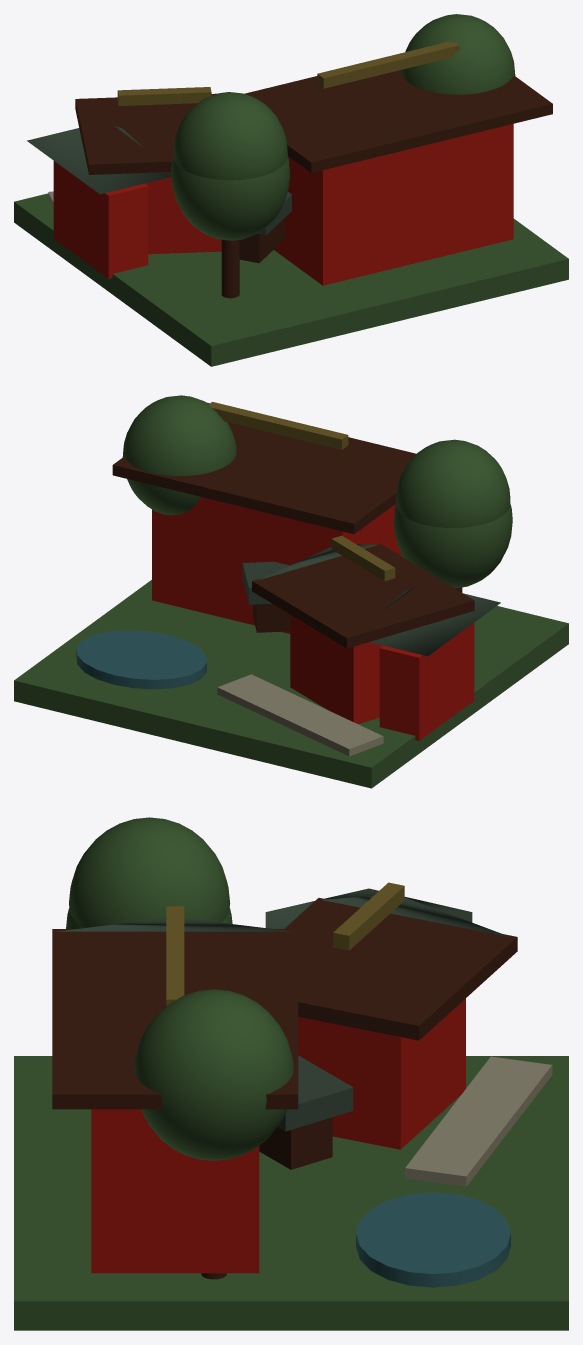
File: YonganPalace.fbx
The picture shows the model from 3 angles, top to bottom: view 1: azimuth 30°, elevation 25°; view 2: azimuth 150°, elevation 25°; view 3: azimuth 270°, elevation 25°; orthographic projection. The views are drawn at different scales.
Parts seen in each view (by area): view 1: garden_ground, main_hall_body, main_hall_eave, north_tree_canopy, east_gate, east_pavilion_eave, west_tree_canopy, garden_canopy, east_pavilion_body, east_gate_roof, main_hall_ridge, east_pavilion_ridge (+2 smaller); view 2: garden_ground, main_hall_eave, main_hall_body, east_pavilion_eave, west_tree_canopy, north_tree_canopy, east_gate, east_pavilion_body, pond, garden_canopy, garden_path, east_gate_roof (+5 smaller); view 3: garden_ground, main_hall_eave, main_hall_body, west_tree_canopy, east_pavilion_eave, east_pavilion_body, north_tree_canopy, pond, garden_path, gallery_roof, covered_gallery, east_pavilion_ridge (+4 smaller).
Part boxes in pixels (x1,y1,x2,y2): garden_ground: (14, 193, 568, 366); main_hall_body: (274, 124, 513, 285); main_hall_eave: (245, 70, 552, 172); north_tree_canopy: (173, 92, 287, 180); east_gate: (53, 161, 148, 278); east_pavilion_eave: (75, 93, 216, 174); west_tree_canopy: (401, 14, 515, 94); garden_canopy: (171, 156, 290, 240); east_pavilion_body: (145, 177, 221, 254); east_gate_roof: (27, 126, 171, 194); main_hall_ridge: (317, 42, 459, 88); east_pavilion_ridge: (117, 87, 211, 105); garden_ground: (14, 580, 568, 788); main_hall_eave: (112, 402, 416, 533); main_hall_body: (152, 497, 402, 633); east_pavilion_eave: (252, 543, 474, 648); west_tree_canopy: (122, 395, 236, 515); north_tree_canopy: (396, 439, 510, 527); east_gate: (379, 623, 474, 740); east_pavilion_body: (290, 615, 382, 723); pond: (76, 630, 206, 689); garden_canopy: (393, 503, 512, 588); garden_path: (217, 674, 383, 756); east_gate_roof: (370, 588, 500, 656); garden_ground: (14, 1056, 568, 1330); main_hall_eave: (52, 929, 298, 1109); main_hall_body: (91, 1109, 259, 1273); west_tree_canopy: (134, 989, 293, 1160); east_pavilion_eave: (284, 898, 517, 1040); east_pavilion_body: (298, 998, 465, 1149); north_tree_canopy: (69, 817, 230, 927); pond: (356, 1192, 510, 1287); garden_path: (405, 1056, 552, 1186); gallery_roof: (278, 1055, 353, 1131); covered_gallery: (259, 1117, 332, 1169); east_pavilion_ridge: (333, 882, 404, 950).
Bounding box in the file's own units: 98 × 52.5 × 86.
